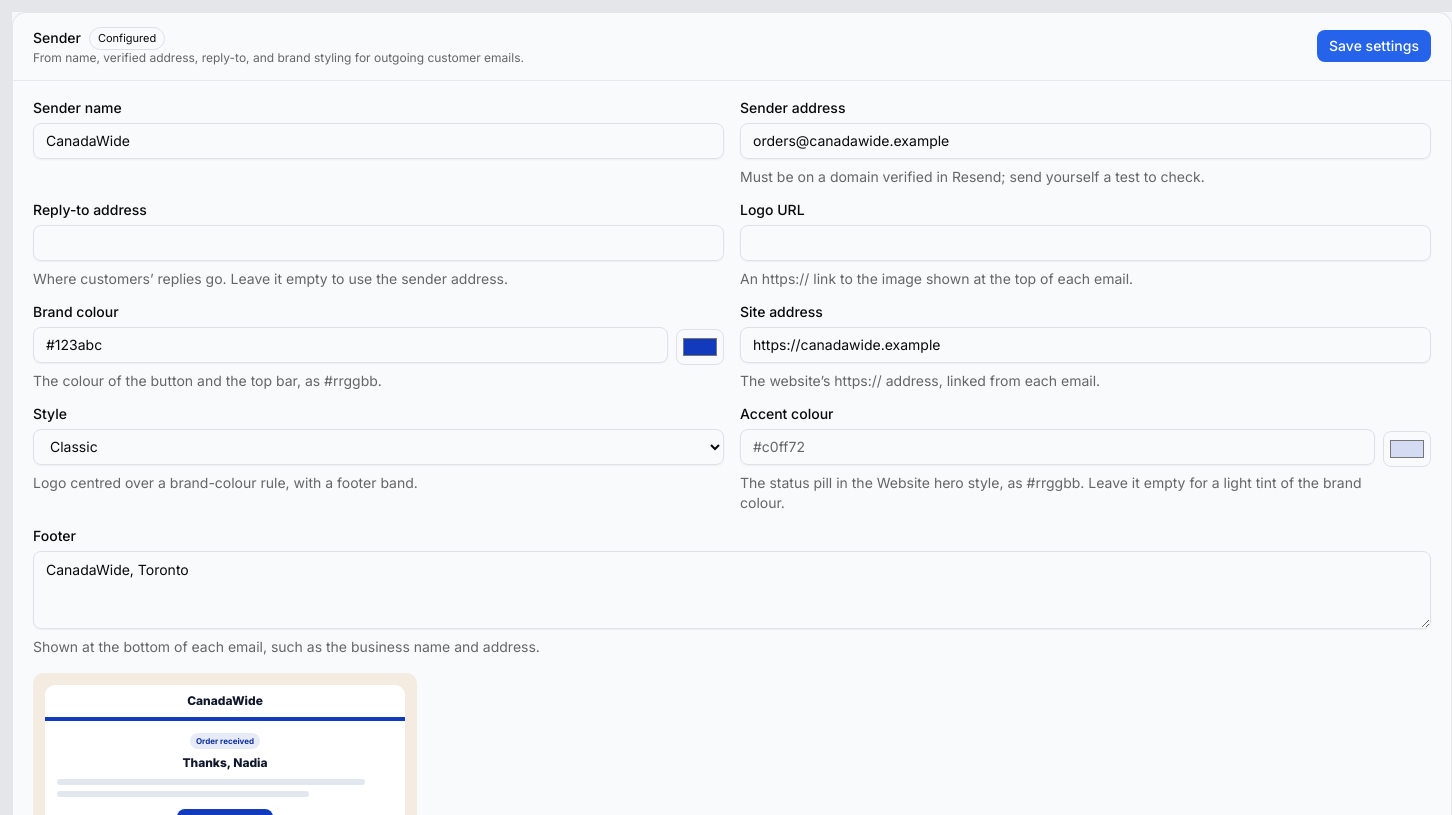
EmailSettingsScreen › turns the page read-only when a save is refused for lack of permission
Click the button "Save settings" at (1374, 46), box [1317,30,1431,62]
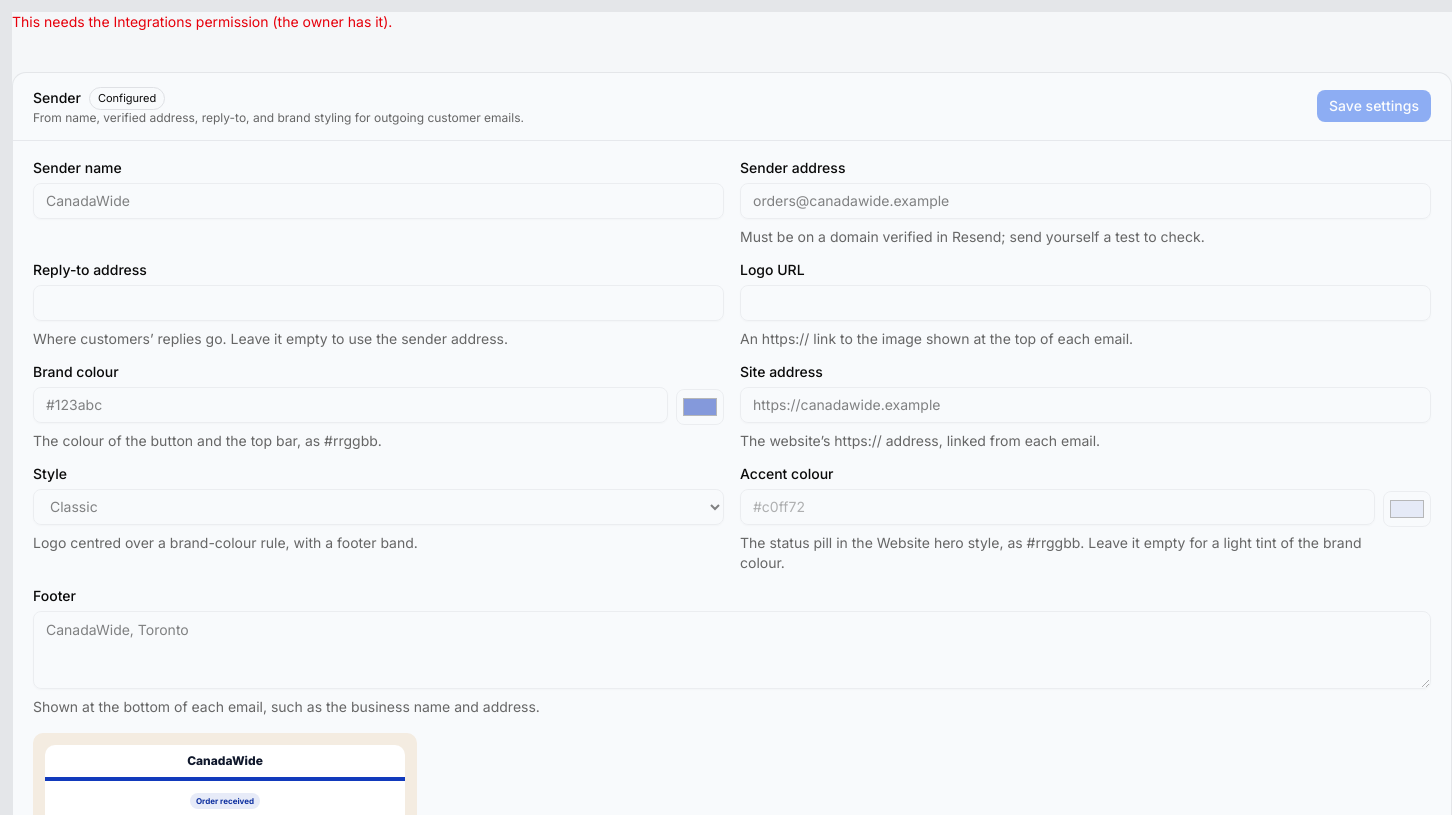
Check: the text "This needs the Integrations permission (the owner has it)." is shown, box [12,13,392,30]
Check: the button "Save settings" is disabled, box [1317,90,1431,122]
